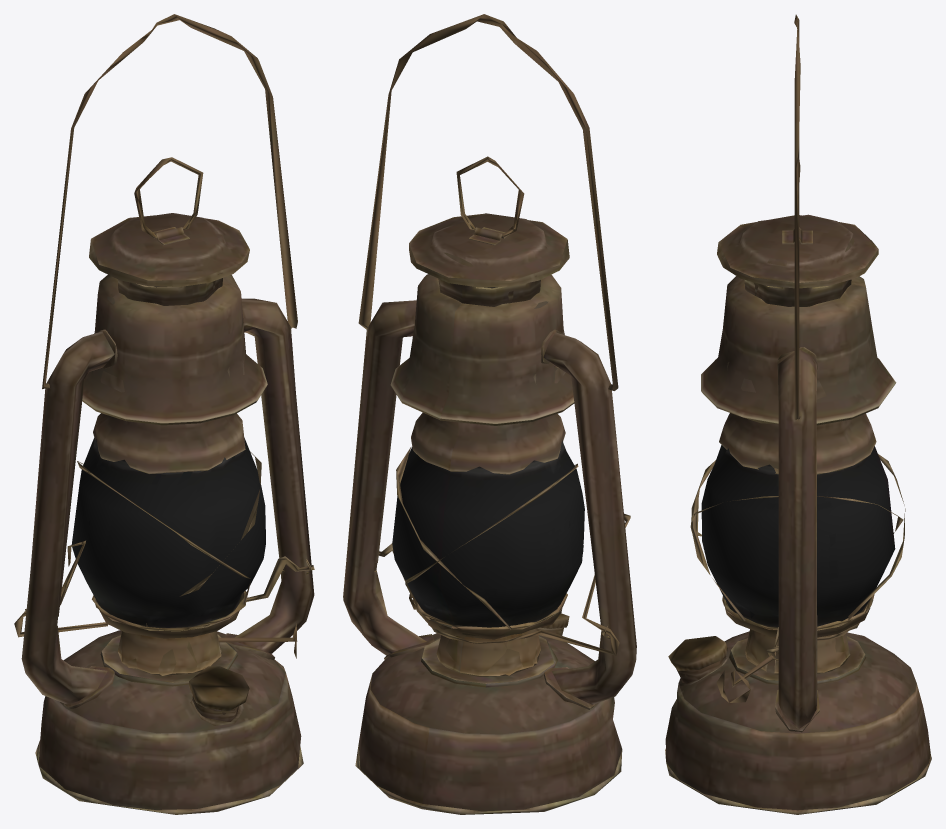
The model's file is lantern.glb.
3 views of the same model, side by side, from view 1: azimuth 30°, elevation 25°; view 2: azimuth 150°, elevation 25°; view 3: azimuth 270°, elevation 25° (orthographic).
Visible parts, largest first — view 1: Lantern_01, Lantern_01_glass; view 2: Lantern_01, Lantern_01_glass; view 3: Lantern_01, Lantern_01_glass.
Part boxes in pixels (x1,y1,x2,y2): Lantern_01: (14,14,314,814); Lantern_01_glass: (71,437,265,627); Lantern_01: (343,14,636,814); Lantern_01_glass: (392,440,584,627); Lantern_01: (665,14,931,814); Lantern_01_glass: (701,445,895,626).
Bounding box in the file's own units: 0.1211 × 0.2939 × 0.0958.
Materials: 2 (2 with a texture image).
